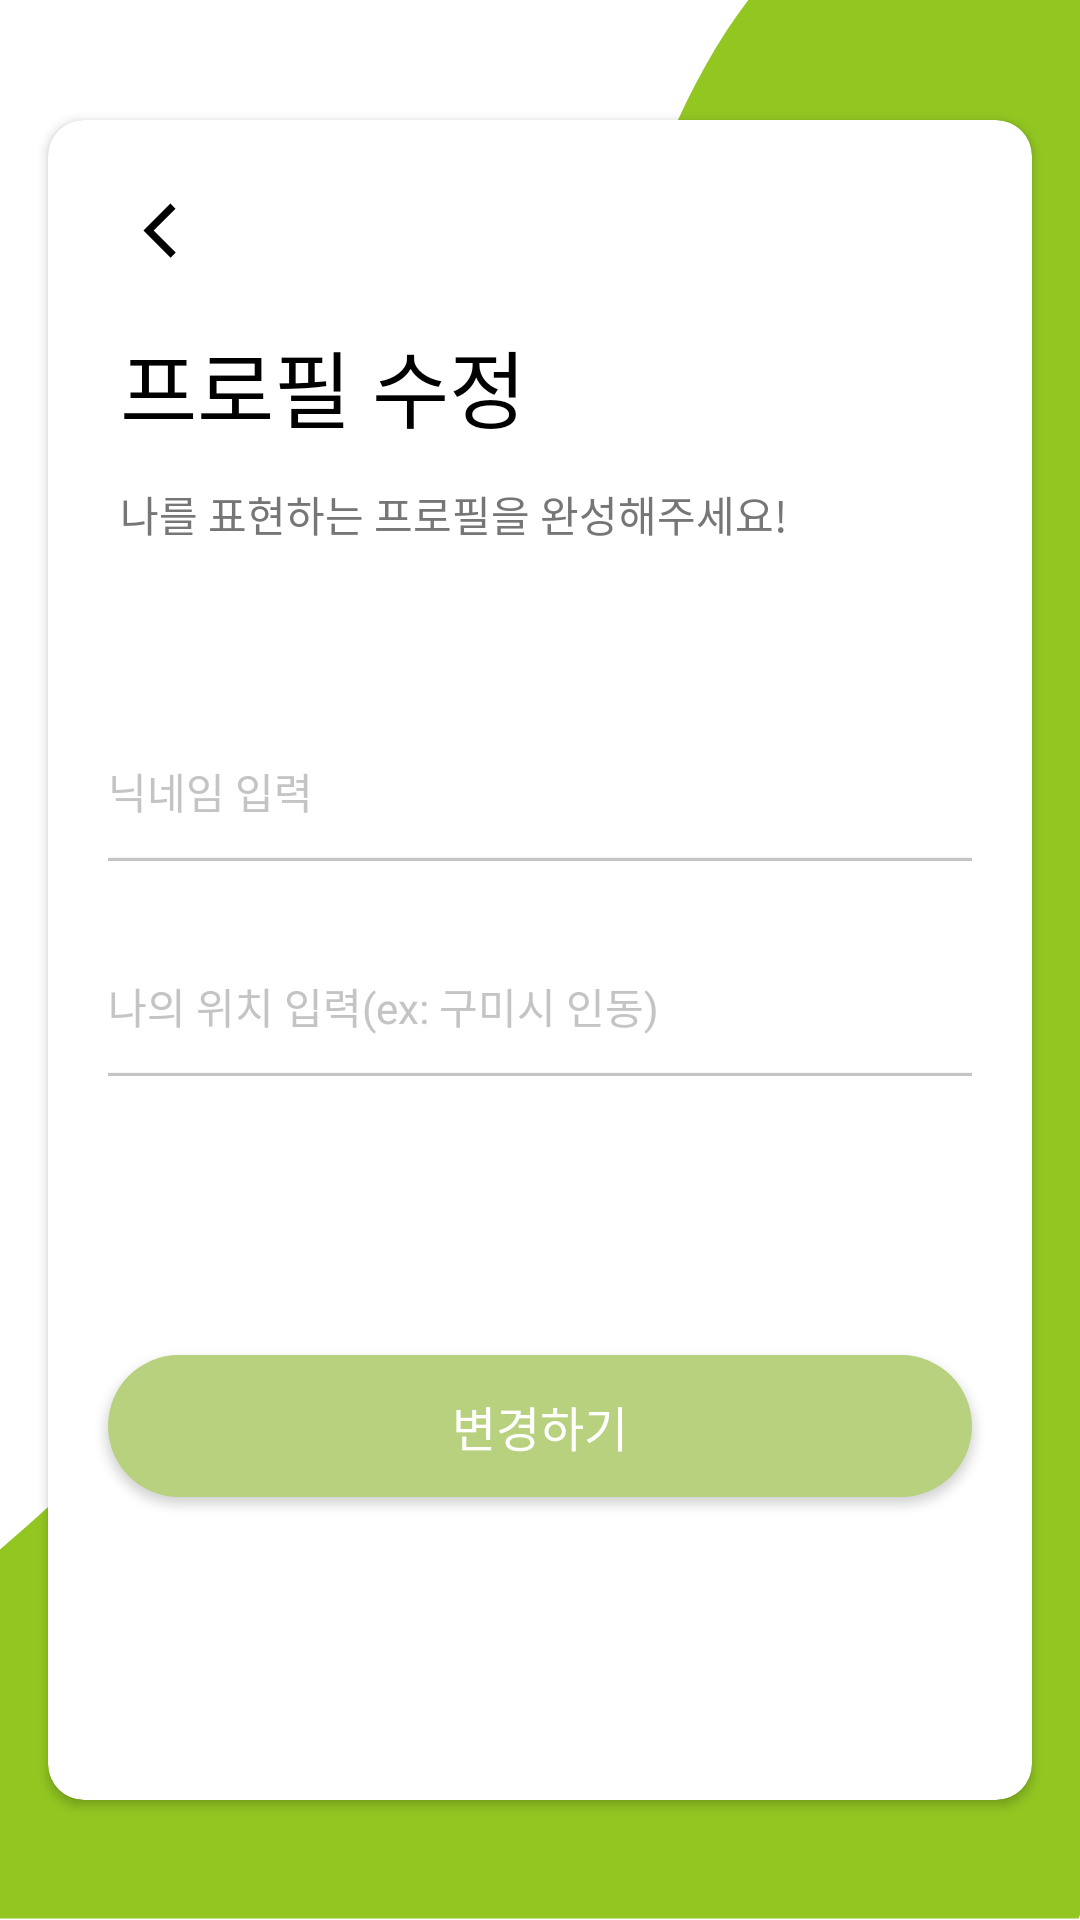

Named icons in this screenshot (1080px x 1920px) and their bounding boxes, (x1, y1, x2, y2):
back: (143, 203, 176, 258)
